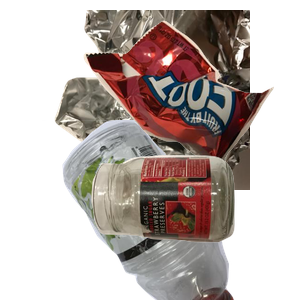glass: (89, 153, 300, 300)
metal: (52, 10, 292, 190)
plastic: (25, 120, 252, 300)
trash: (81, 18, 300, 182)
